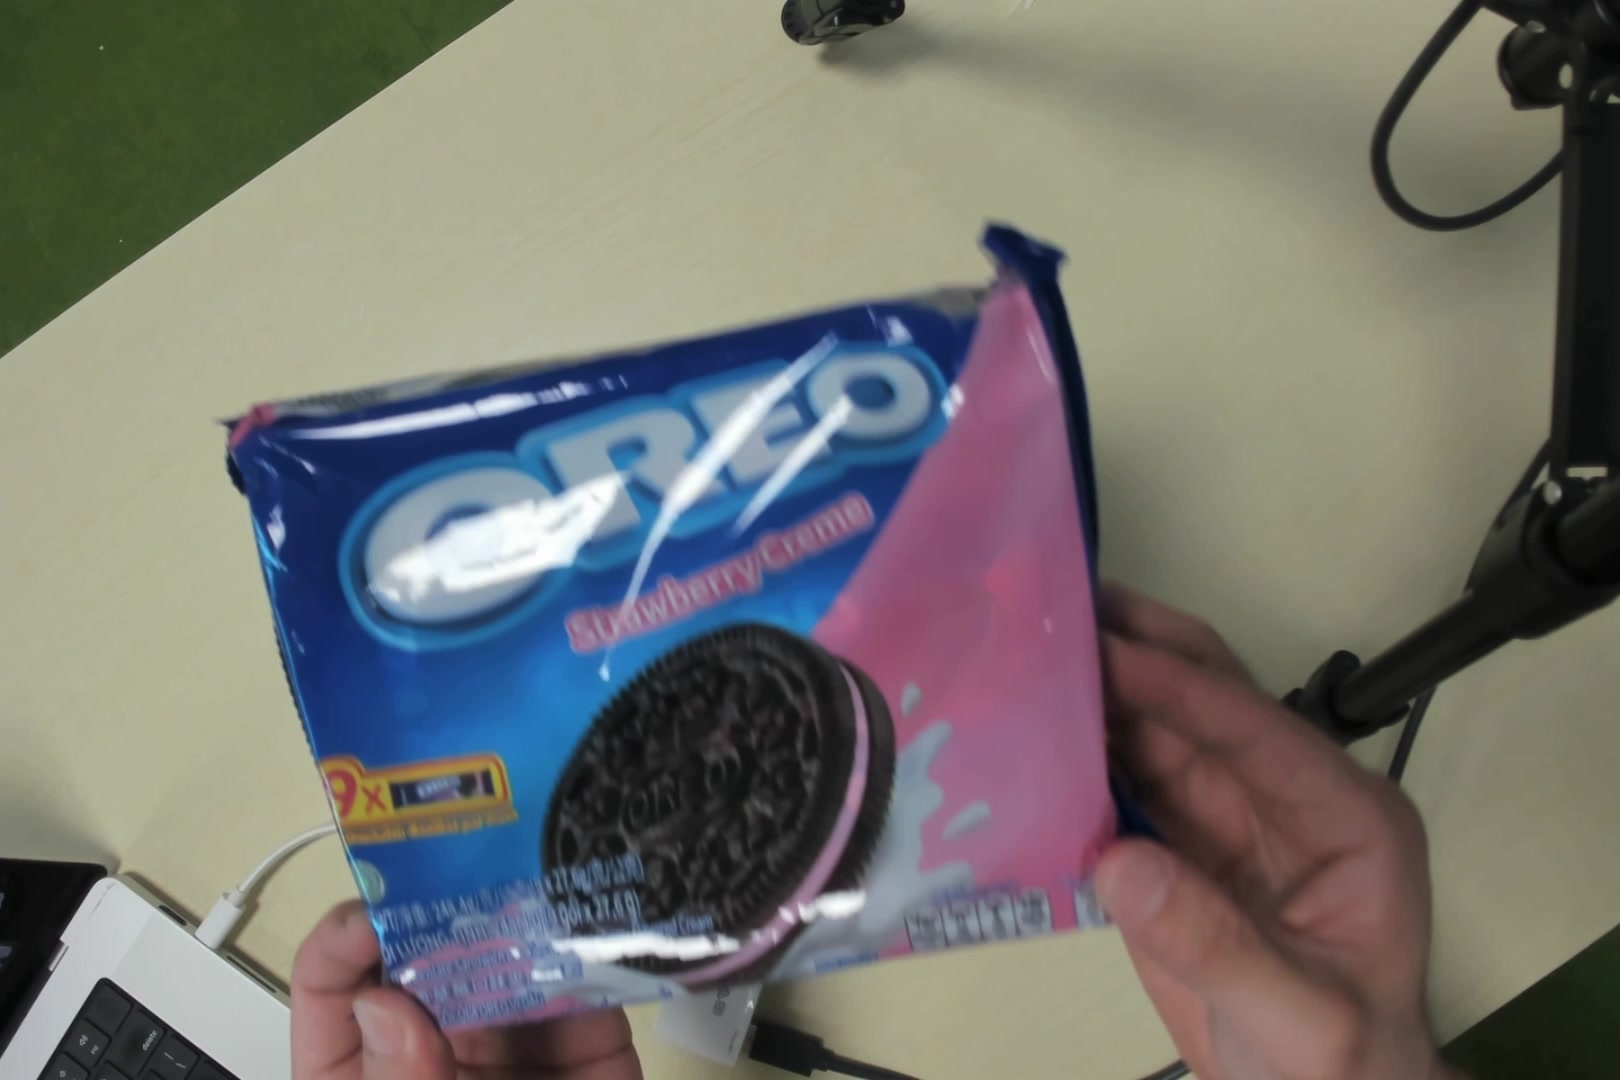SweetsChocolatesOthers_200-299g_Halal_NonHealthy: (234, 353, 1129, 1000)
